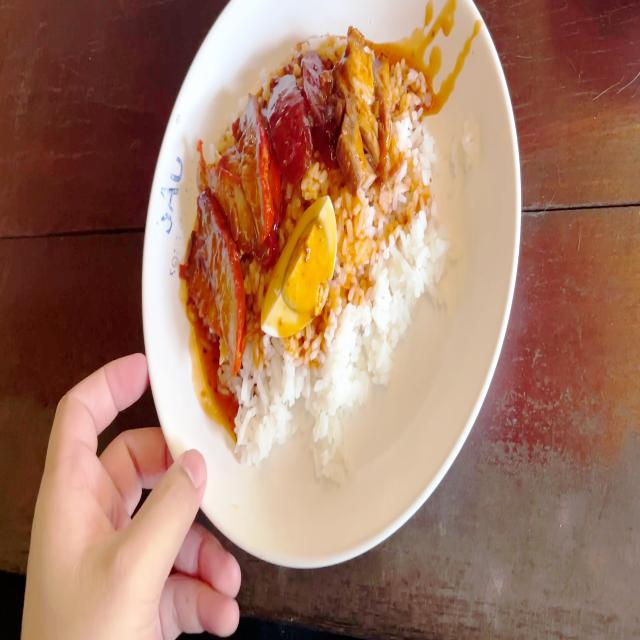boiled_egg: (264, 199, 338, 332)
chainese_sausage: (266, 55, 336, 166)
crispy_pork: (342, 28, 393, 186)
red_pork: (186, 102, 262, 356)
red_pork_and_crispy_pork: (185, 45, 446, 446)
rice: (344, 190, 434, 370), (232, 336, 358, 459), (394, 64, 433, 204)
